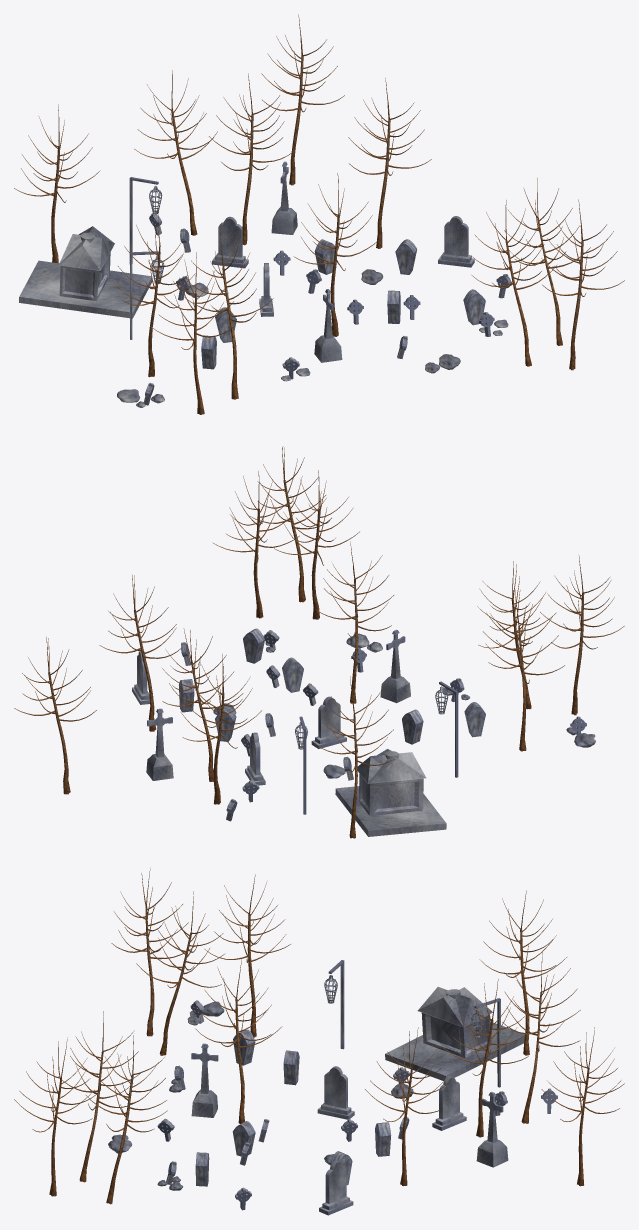
File: nekropoli.FBX
The picture shows the model from 3 angles, top to bottom: view 1: azimuth 30°, elevation 25°; view 2: azimuth 150°, elevation 25°; view 3: azimuth 270°, elevation 25°; orthographic projection. The views are drawn at different scales.
Parts seen in each view (by area): view 1: pedistal, roof, tomb, Foliage012, Foliage013, Foliage005, Foliage014, Foliage009, Foliage004, Foliage008, grave_a, Foliage011 (+9 smaller); view 2: pedistal, tomb, roof, Foliage008, Foliage013, Foliage002, Foliage014, Foliage004, Foliage011, Foliage005, Foliage012, Foliage007 (+12 smaller); view 3: pedistal, tomb, roof, Foliage002, Foliage009, Foliage006, Foliage012, Foliage008, Foliage010, Foliage007, Foliage013, Foliage005 (+12 smaller).
Boxes of the visible parts, x1,y1,x2,y2 form: pedistal: (19, 260, 152, 318); roof: (58, 226, 114, 270); tomb: (59, 252, 110, 301); Foliage012: (209, 73, 294, 245); Foliage013: (261, 14, 344, 185); Foliage005: (541, 199, 624, 370); Foliage014: (348, 78, 431, 248); Foliage009: (184, 227, 273, 399); Foliage004: (471, 200, 556, 366); Foliage008: (150, 252, 234, 414); grave_a: (438, 216, 474, 267); Foliage011: (134, 70, 217, 235); pedistal: (335, 786, 446, 836); tomb: (359, 774, 423, 815); roof: (357, 749, 426, 783); Foliage008: (540, 556, 624, 715); Foliage013: (14, 637, 96, 794); Foliage002: (212, 471, 299, 618); Foliage014: (99, 575, 182, 731); Foliage004: (274, 470, 359, 619); Foliage011: (180, 654, 261, 804); Foliage005: (249, 446, 331, 602); Foliage012: (162, 628, 243, 781); Foliage007: (483, 589, 564, 751); pedistal: (385, 1022, 524, 1080); tomb: (421, 1013, 491, 1058); roof: (417, 987, 492, 1027); Foliage002: (86, 1035, 167, 1204); Foliage009: (136, 891, 225, 1055); Foliage006: (195, 959, 282, 1123); Foliage012: (441, 979, 529, 1137); Foliage008: (111, 867, 193, 1036); Foliage010: (479, 890, 566, 1055); Foliage007: (204, 874, 290, 1037); Foliage013: (541, 1027, 624, 1186); Foliage005: (14, 1037, 97, 1196).
Bounding box in the file's own units: 30.97 × 38.34 × 11.69.
Materials: 2 (2 with a texture image).
